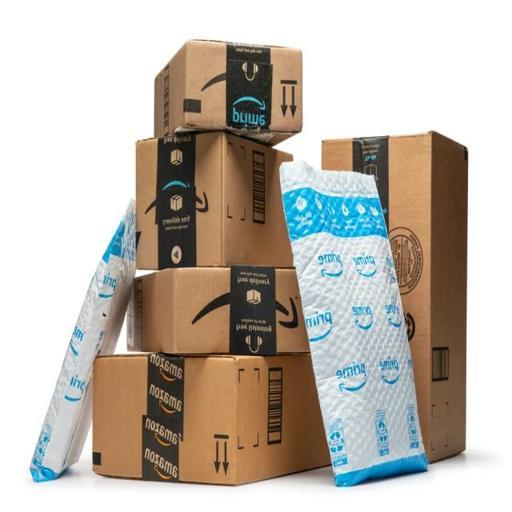Amazon: (275, 159, 436, 479), (319, 135, 471, 456), (95, 353, 352, 489), (28, 196, 147, 477), (130, 137, 306, 272), (128, 265, 343, 358), (149, 37, 309, 144)
